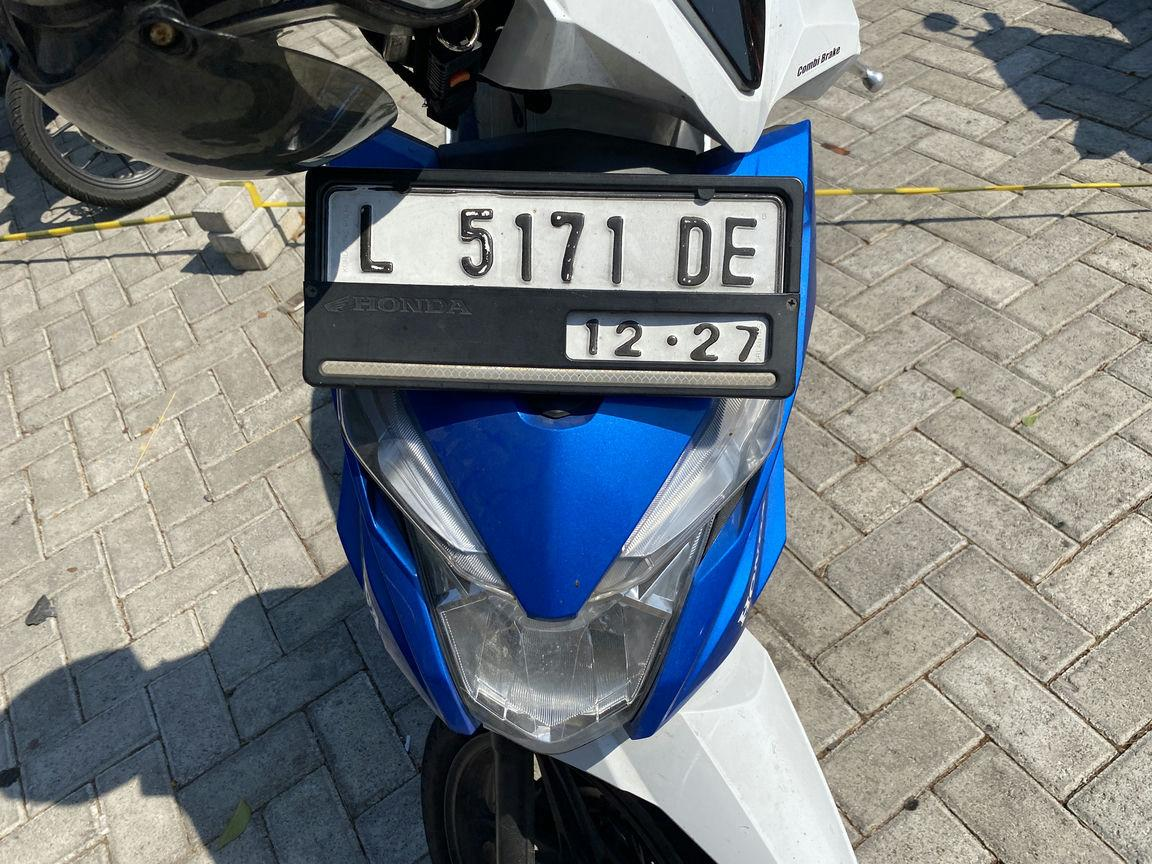plat: (304, 171, 803, 398)
